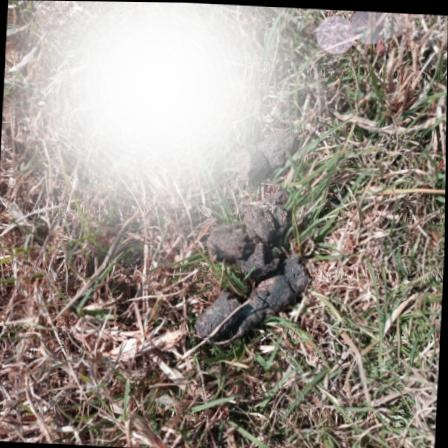dog-poop: (185, 126, 314, 351)
